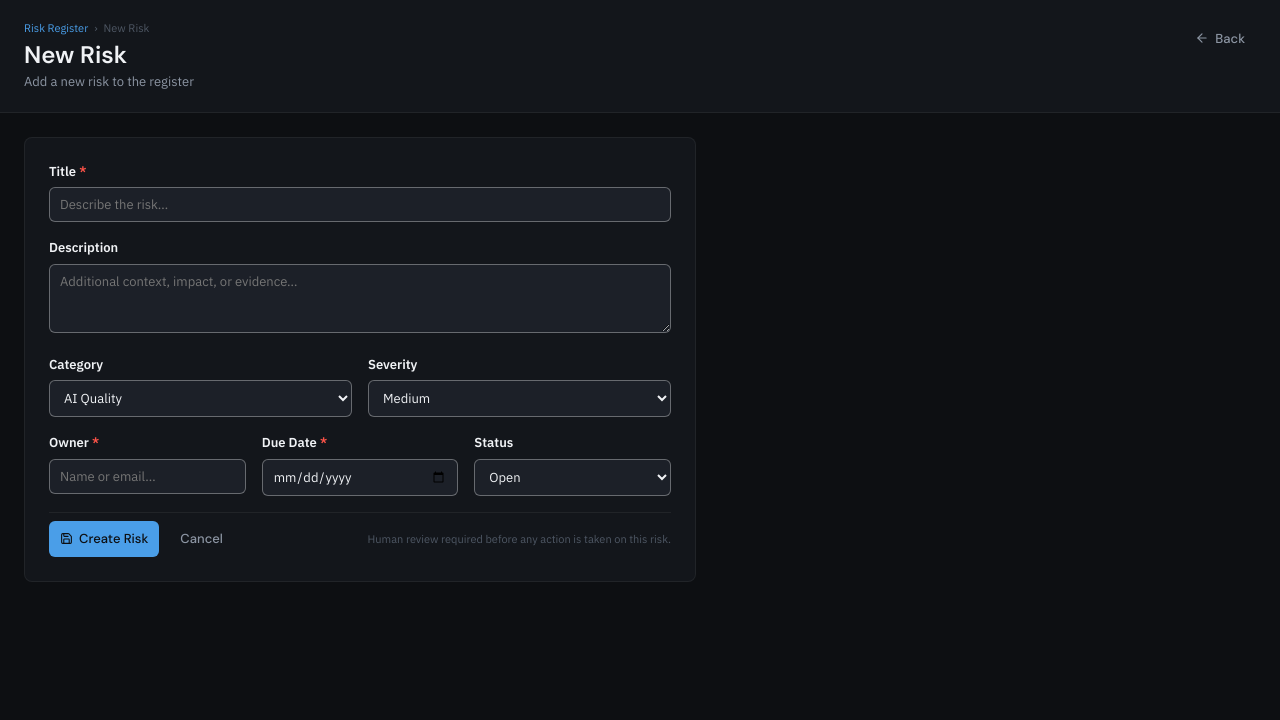
Test case: RiskForm — onBlur field validation (STORY-RISKFORM-001) › AC-4: correcting one error leaves remaining errors and does not submit
The image size is (1280, 720).
Click the button "Create Risk" at (104, 539), box 49,521 -> 159,557
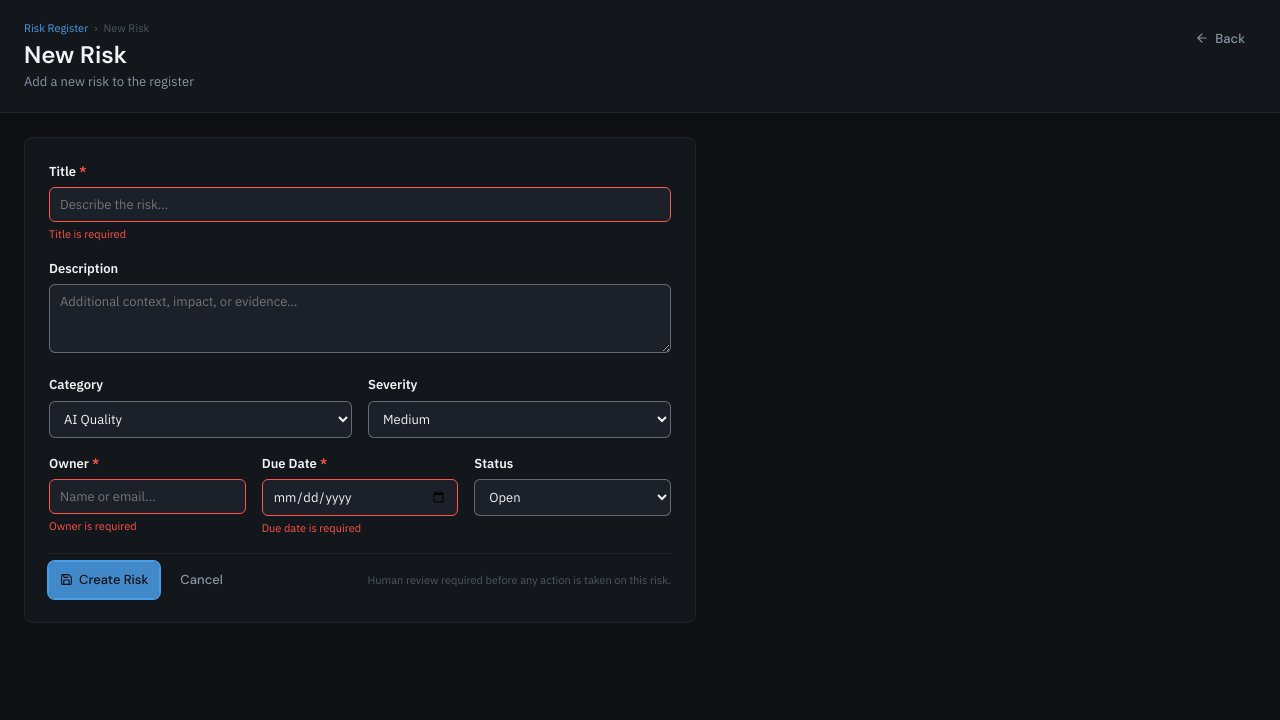
Check: the text "Title is required" is shown, box 49,227 -> 126,241
Type "New AI risk" into the field with placeholder "Describe the risk…" at (360, 205), box 49,187 -> 671,222
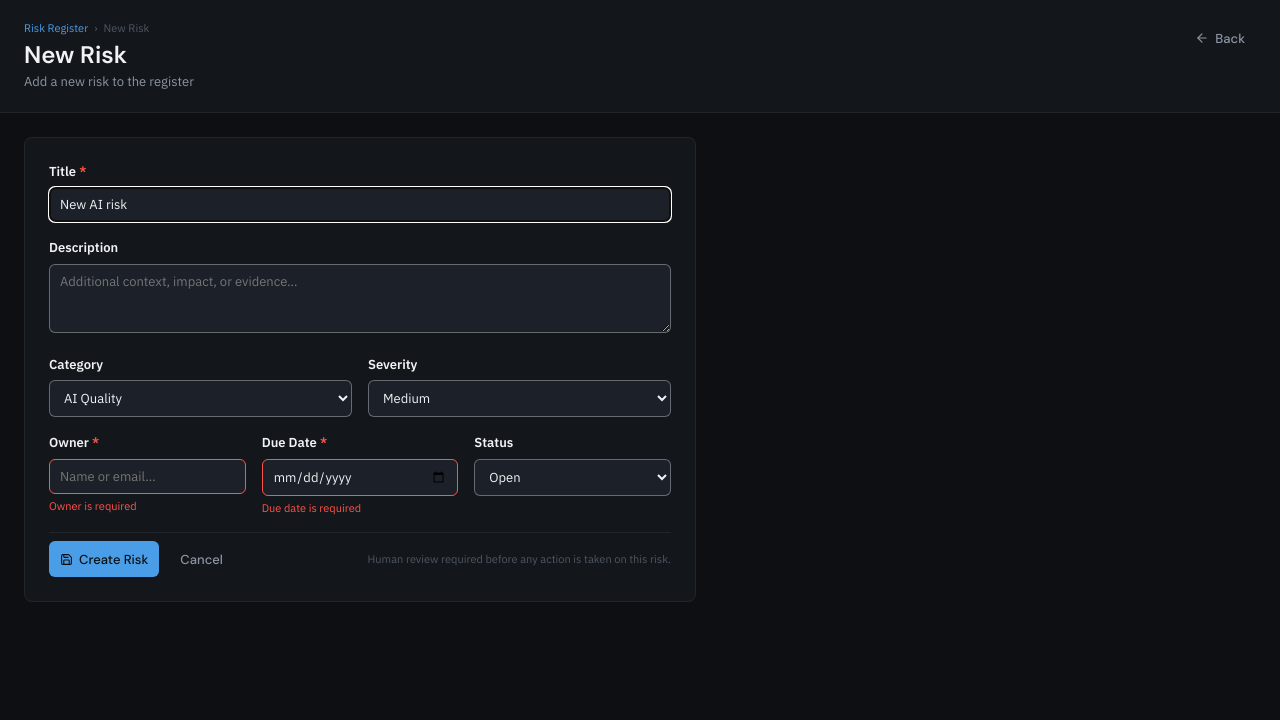
Check: the text "Owner is required" is shown, box 49,499 -> 137,513
Check: the text "Due date is required" is shown, box 262,501 -> 361,515
Check: the text "Title is required" is gone
